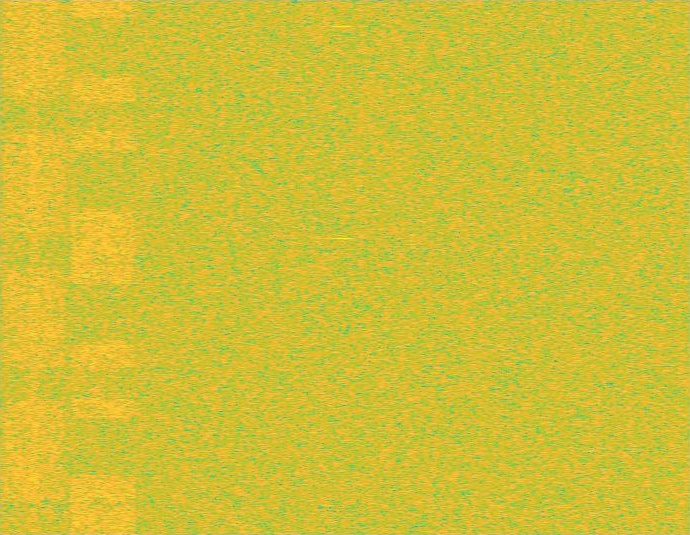5G: (0, 0, 69, 534)
DSSS: (30, 0, 39, 534)
LTE: (69, 0, 138, 534)
Radar: (336, 0, 350, 534)
